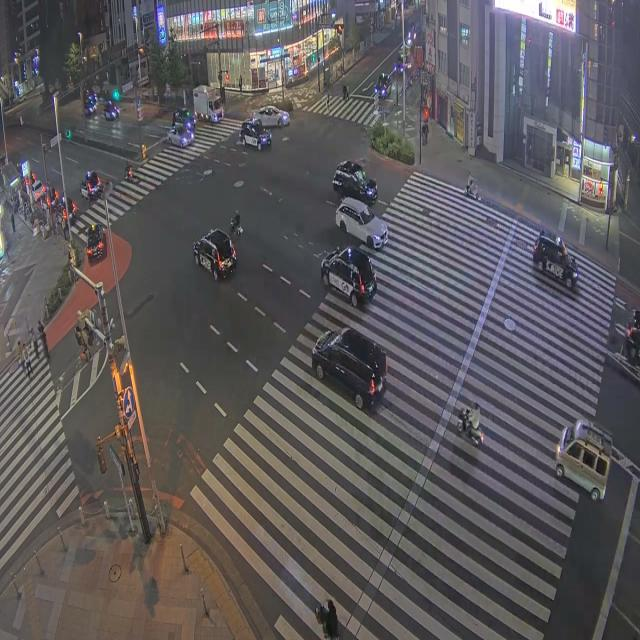car: (312, 328, 387, 409), (321, 247, 376, 307), (533, 230, 578, 288), (336, 198, 387, 248), (193, 230, 236, 280), (333, 161, 377, 205), (240, 120, 271, 150), (52, 196, 78, 226), (253, 106, 289, 127), (86, 224, 105, 261), (166, 124, 194, 148), (80, 171, 102, 199), (172, 109, 196, 131), (374, 73, 390, 98), (209, 98, 224, 122), (83, 90, 97, 115), (32, 180, 46, 202), (104, 101, 119, 120), (84, 102, 97, 115)
motorcycle: (458, 409, 483, 446), (465, 183, 479, 200), (230, 220, 242, 238), (125, 168, 135, 183)
truck: (194, 86, 223, 122)
van: (556, 419, 612, 500)
